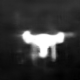plane: (13, 28, 75, 62)
